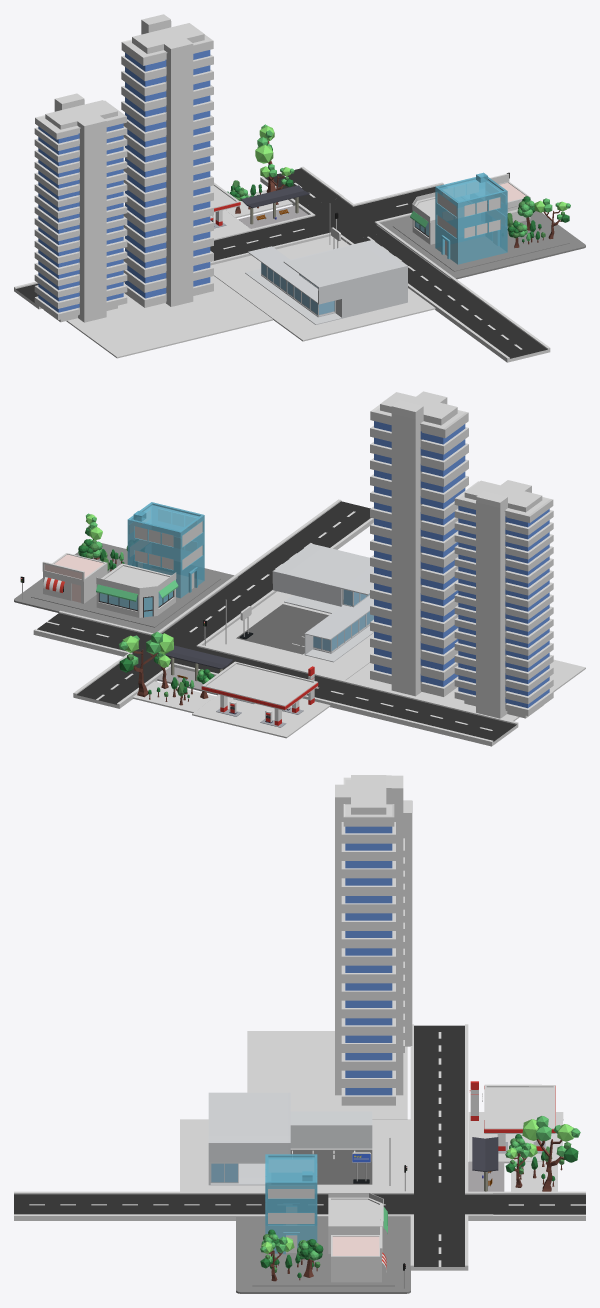
Rendered from City3.fbx.
3 renders of one model, top to bottom at view 1: azimuth 30°, elevation 25°; view 2: azimuth 150°, elevation 25°; view 3: azimuth 270°, elevation 25°, orthographic. The views are drawn at different scales.
Visible parts, largest first — view 1: Cube.022, Cube.024, Plane.029, Cube.023, road, Building 1, Cube.043, platform, road junction, road4, Cylinder.006, road2 (+8 smaller); view 2: Cube.022, Cube.024, Plane.029, road, road4, Cube.052, Building 1, platform, Cube.043, shop 2, shop1, Plane.007 (+7 smaller); view 3: Cube.022, Plane.029, road4, road, platform, Cube.023, Cube.043, Cube.052, Building 1, road junction, road2, road1 (+7 smaller).
Part boxes in pixels (left/top/right/bottom): Cube.022: left=121, top=14, right=213, bottom=307; Cube.024: left=34, top=93, right=127, bottom=322; Plane.029: left=245, top=240, right=407, bottom=324; Cube.023: left=66, top=276, right=272, bottom=358; road: left=346, top=230, right=550, bottom=362; Building 1: left=435, top=172, right=507, bottom=264; Cube.043: left=210, top=236, right=435, bottom=341; platform: left=376, top=211, right=585, bottom=279; road junction: left=293, top=196, right=397, bottom=242; road4: left=14, top=219, right=317, bottom=309; Cylinder.006: left=238, top=185, right=309, bottom=228; road2: left=260, top=166, right=342, bottom=208; Cube.022: left=370, top=391, right=468, bottom=696; Cube.024: left=454, top=480, right=553, bottom=718; Plane.029: left=272, top=543, right=373, bottom=662; road: left=167, top=499, right=373, bottom=638; road4: left=194, top=650, right=518, bottom=746; Cube.052: left=192, top=661, right=330, bottom=738; Building 1: left=127, top=502, right=204, bottom=598; platform: left=14, top=543, right=237, bottom=633; Cube.043: left=204, top=591, right=373, bottom=680; shop 2: left=96, top=563, right=178, bottom=617; shop1: left=42, top=553, right=107, bottom=603; Plane.007: left=236, top=604, right=328, bottom=654; Cube.022: left=335, top=775, right=403, bottom=1105; Plane.029: left=208, top=1092, right=372, bottom=1185; road4: left=410, top=1024, right=468, bottom=1182; road: left=14, top=1191, right=385, bottom=1220; platform: left=236, top=1217, right=410, bottom=1293; Cube.023: left=247, top=1031, right=407, bottom=1119; Cube.043: left=180, top=1119, right=410, bottom=1191; Cube.052: left=468, top=1081, right=563, bottom=1163; Building 1: left=265, top=1154, right=317, bottom=1254; road junction: left=385, top=1181, right=493, bottom=1227; road2: left=493, top=1191, right=585, bottom=1220; road1: left=410, top=1226, right=468, bottom=1270.
Size of what is drawn, in the model's own units: 1239 by 669 by 1106.
